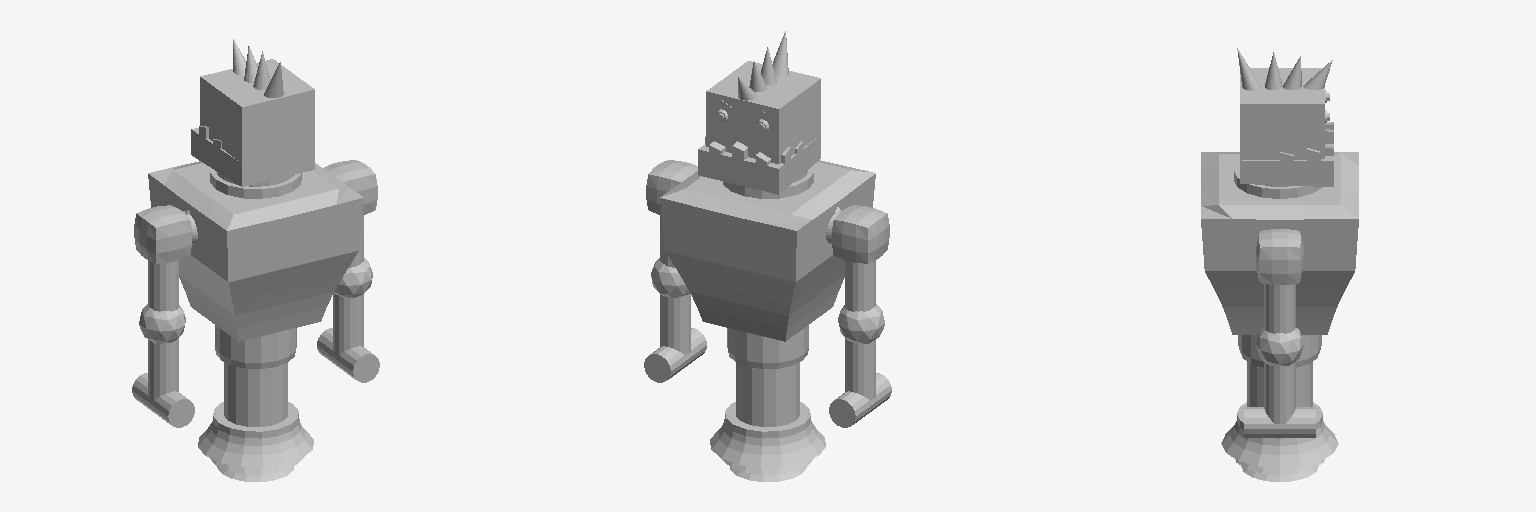
Rendered from RockSockemBotV1.obj.
3 views of the same model, side by side, from view 1: azimuth 30°, elevation 25°; view 2: azimuth 150°, elevation 25°; view 3: azimuth 270°, elevation 25° (orthographic).
Visible parts, largest first — view 1: Torso2_Cube.001; view 2: Torso2_Cube.001; view 3: Torso2_Cube.001.
Part boxes in pixels (bbox=[...]): Torso2_Cube.001: bbox=[132, 39, 379, 481]; Torso2_Cube.001: bbox=[644, 31, 891, 481]; Torso2_Cube.001: bbox=[1201, 48, 1358, 481].
Bounding box in the file's own units: 7.22 × 12.77 × 4.36.